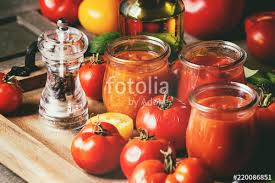Tomato: (71, 123, 124, 173), (140, 95, 190, 138), (124, 135, 178, 165), (84, 53, 105, 96)
